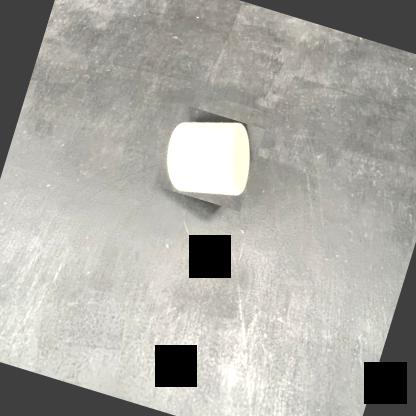white cylinder: (155, 103, 264, 212)
